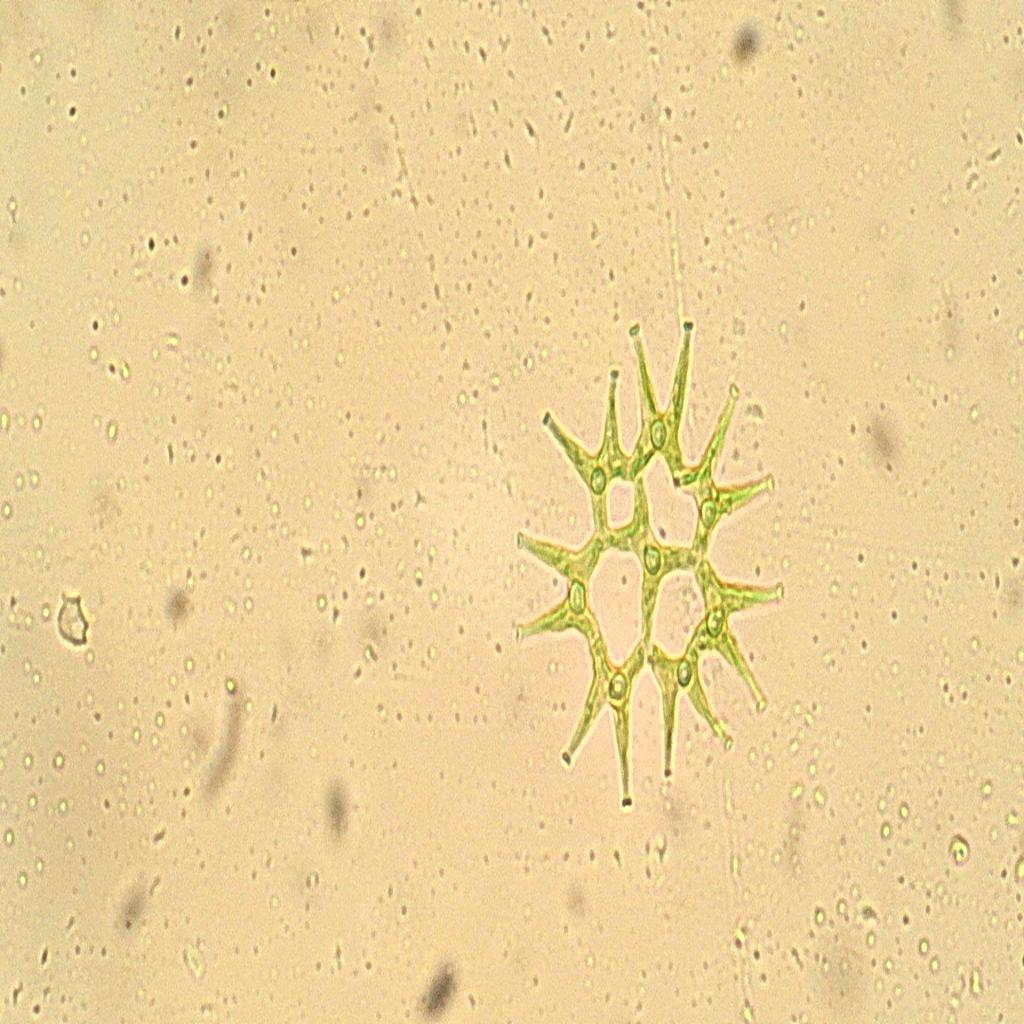Pediastrum_CTH: (502, 298, 789, 813)
